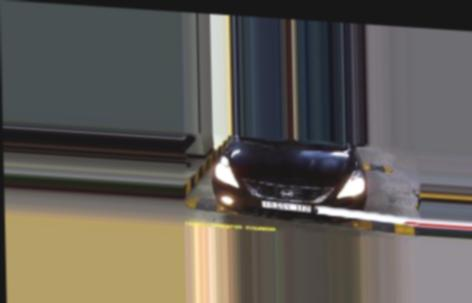License_Plate: (262, 198, 310, 214)
